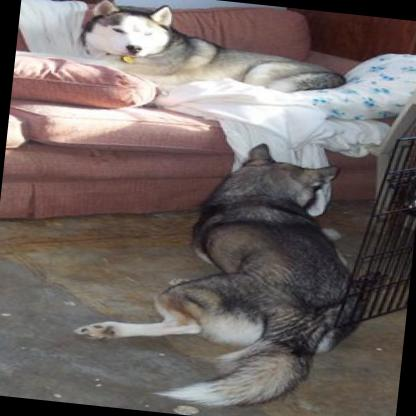Eskimo_dog: (56, 121, 375, 416), (71, 0, 345, 93)
